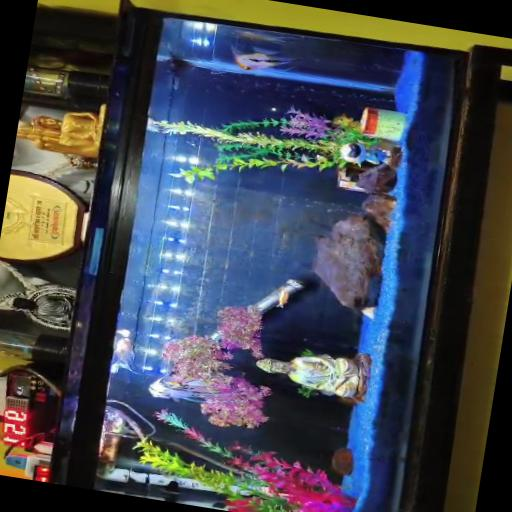Fish: (149, 374, 239, 403), (233, 47, 299, 70), (111, 338, 136, 374), (236, 30, 296, 44), (277, 290, 289, 307)
